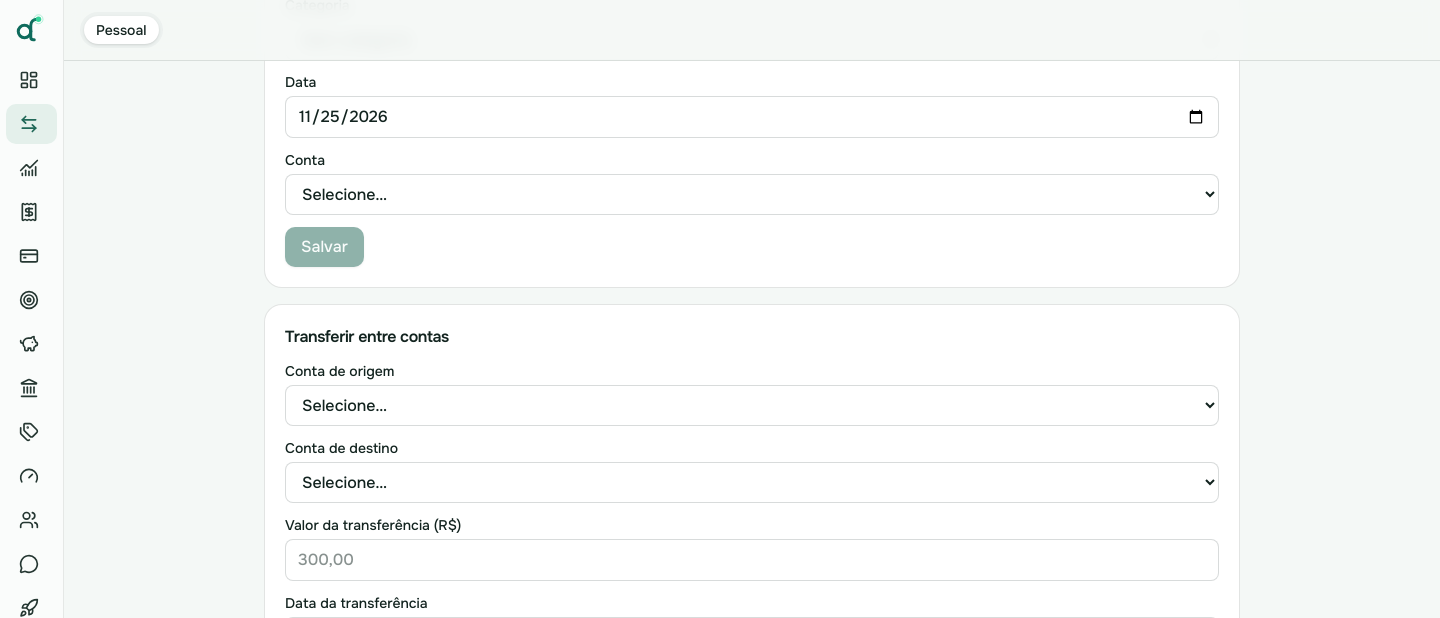
transferir: avisa e bloqueia quando excede o disponível com caixinhas
This screenshot has width=1440, height=618.
(page scrolled)
Select "Nubank" in the dropdown labelled "Conta de origem": (752, 406) [285,385,1219,426]
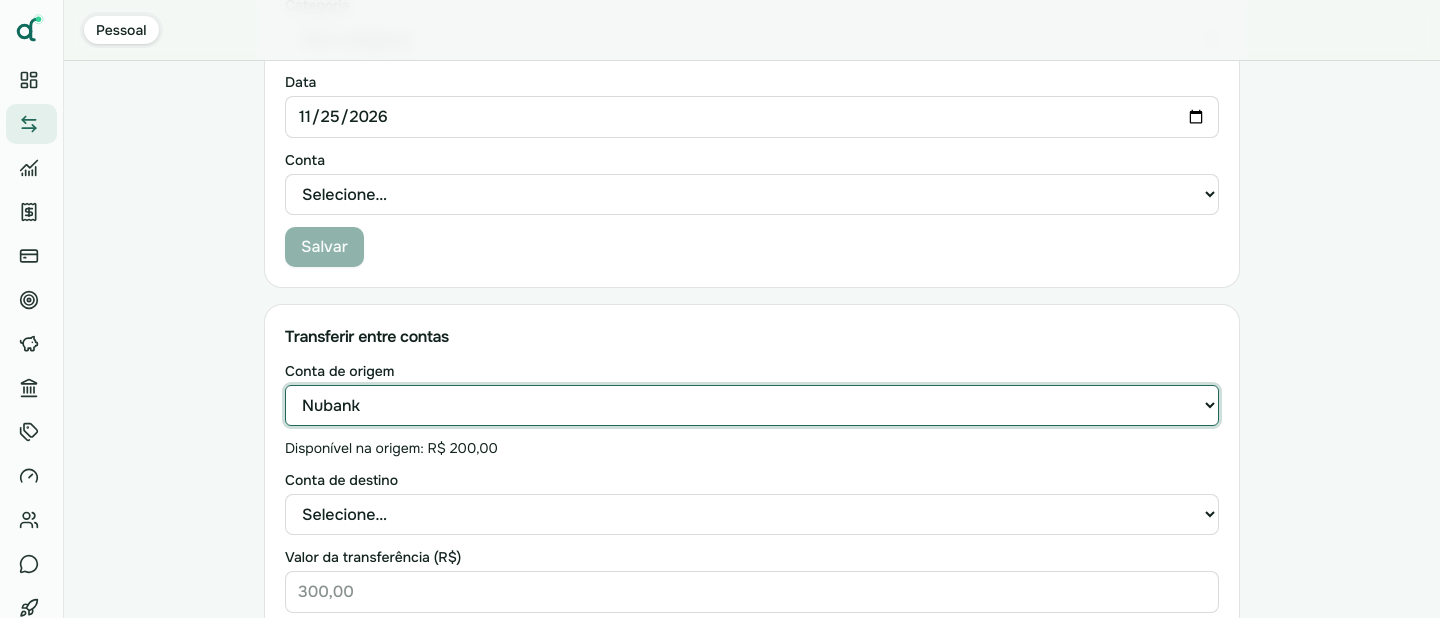
Select "Itaú" in the dropdown labelled "Conta de destino": (752, 514) [285,494,1219,535]
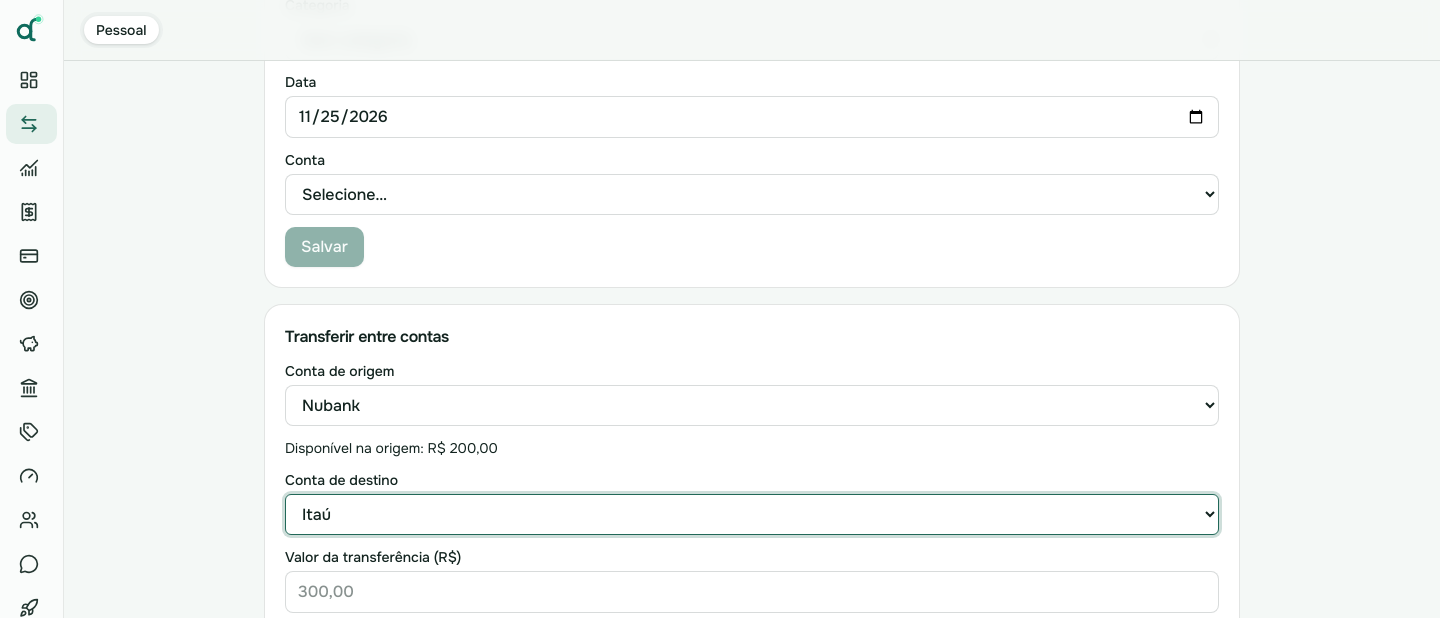
In the field labelled "Valor da transferência (R$)": (752, 592) [285,571,1219,613], type "250"
(page scrolled)
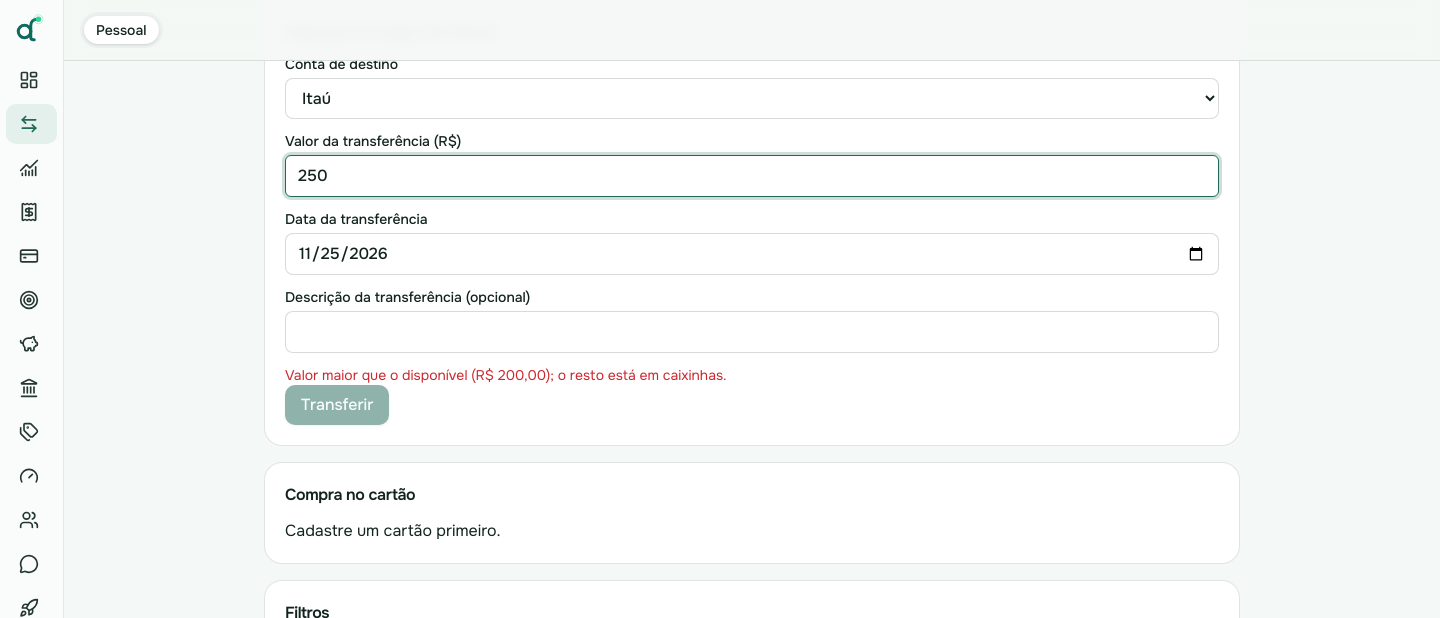
Check: the button "Transferir" is disabled, box [285,385,389,425]
Check: the text "Valor maior que o disponível (R$ 200,00); o resto está em caixinhas." is shown, box [285,366,727,384]
